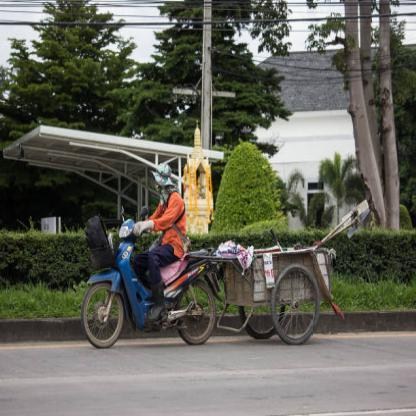Motorcycle: (88, 213, 217, 349)
